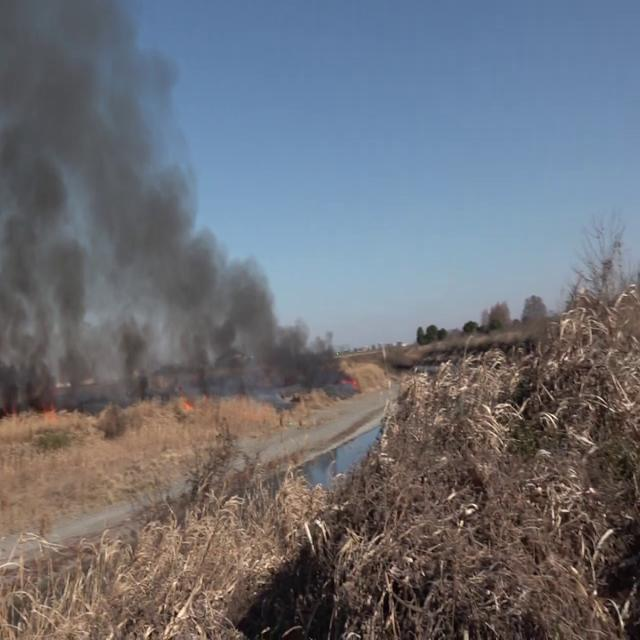Smoke: (0, 0, 187, 398), (174, 232, 356, 391)
